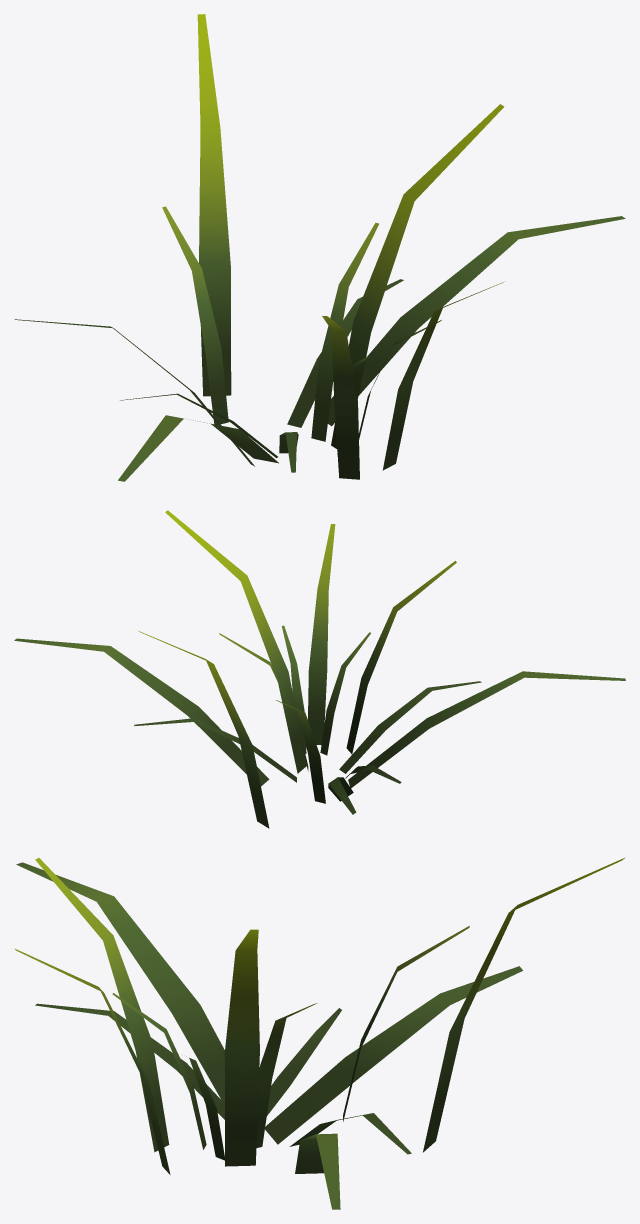
File: Grass1.fbx
3 renders of one model, top to bottom at view 1: azimuth 30°, elevation 25°; view 2: azimuth 150°, elevation 25°; view 3: azimuth 270°, elevation 25°, orthographic. The views are drawn at different scales.
Parts seen in each view (by area): view 1: Grass1.002; view 2: Grass1.002; view 3: Grass1.002.
Part boxes in pixels (x1=…): Grass1.002: x1=14, y1=14, x2=625, y2=481; Grass1.002: x1=14, y1=510, x2=625, y2=828; Grass1.002: x1=14, y1=857, x2=625, y2=1209.
Bounding box in the file's own units: 195 × 89.31 × 145.
